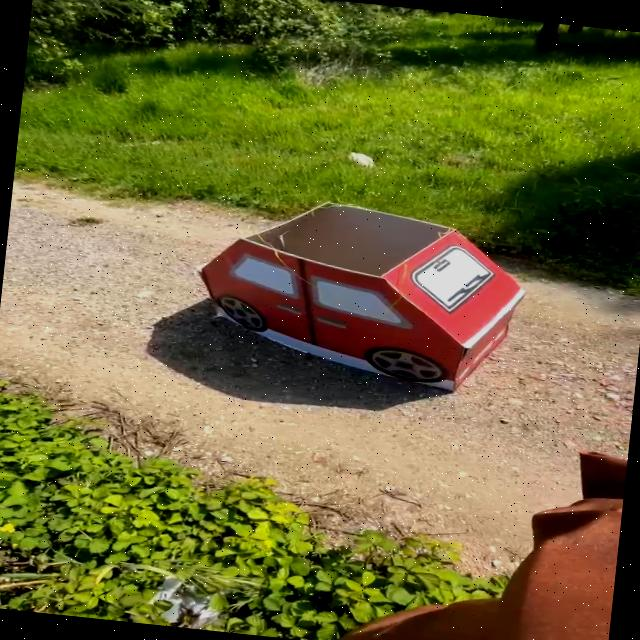red_car: (171, 181, 546, 417)
